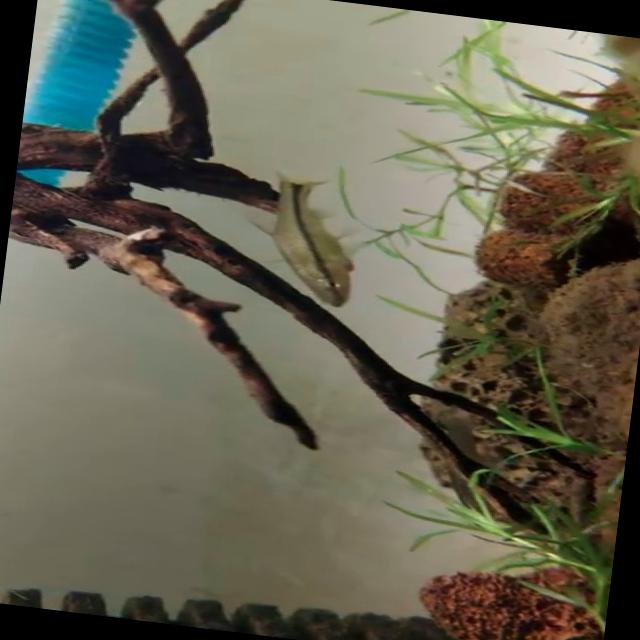Cakil Baligi: (239, 168, 368, 310)
